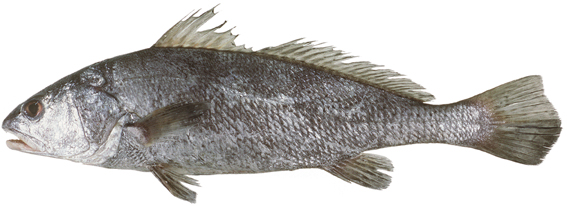fish: (2, 2, 565, 204)
